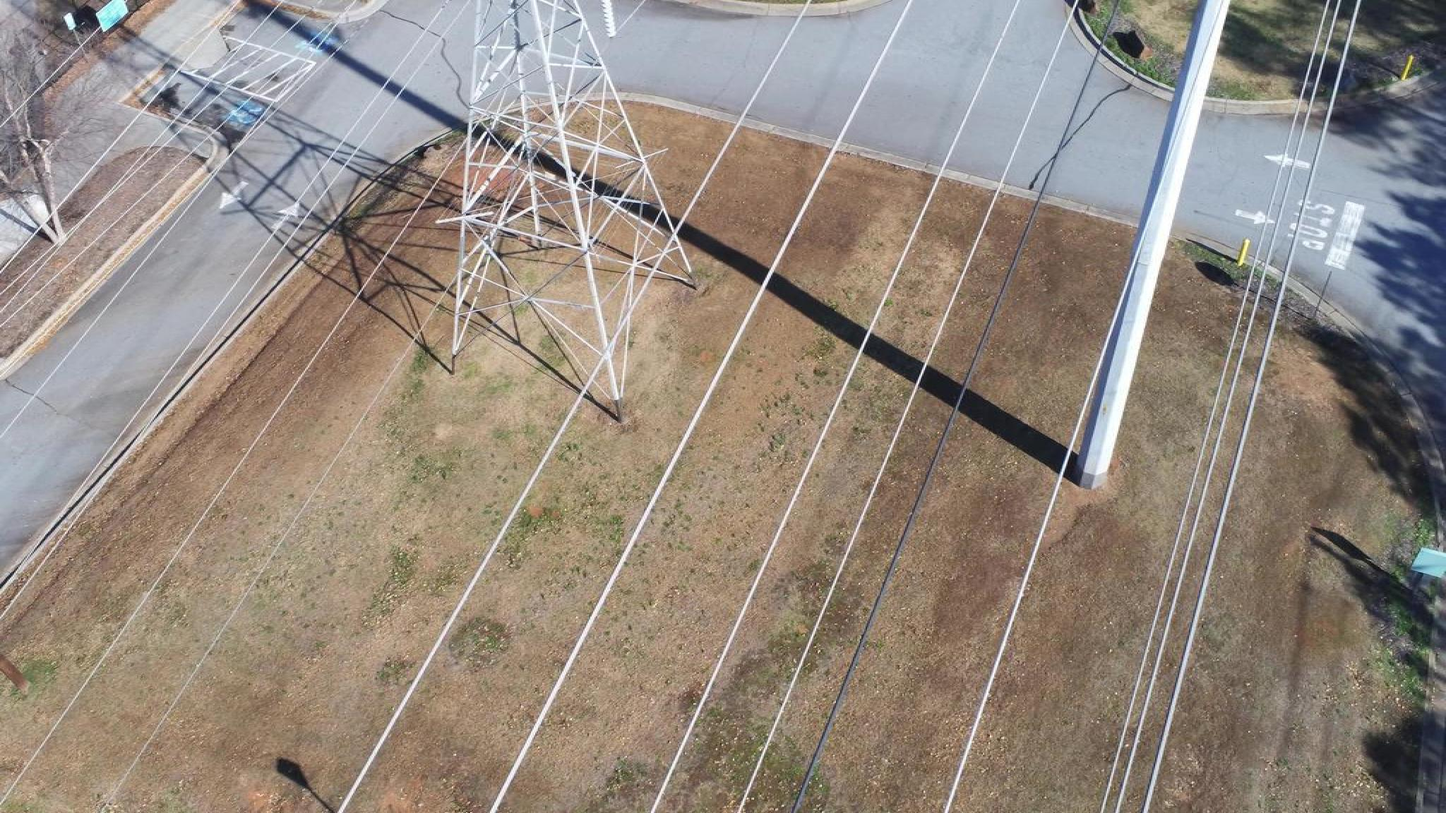tower: (438, 0, 703, 428)
